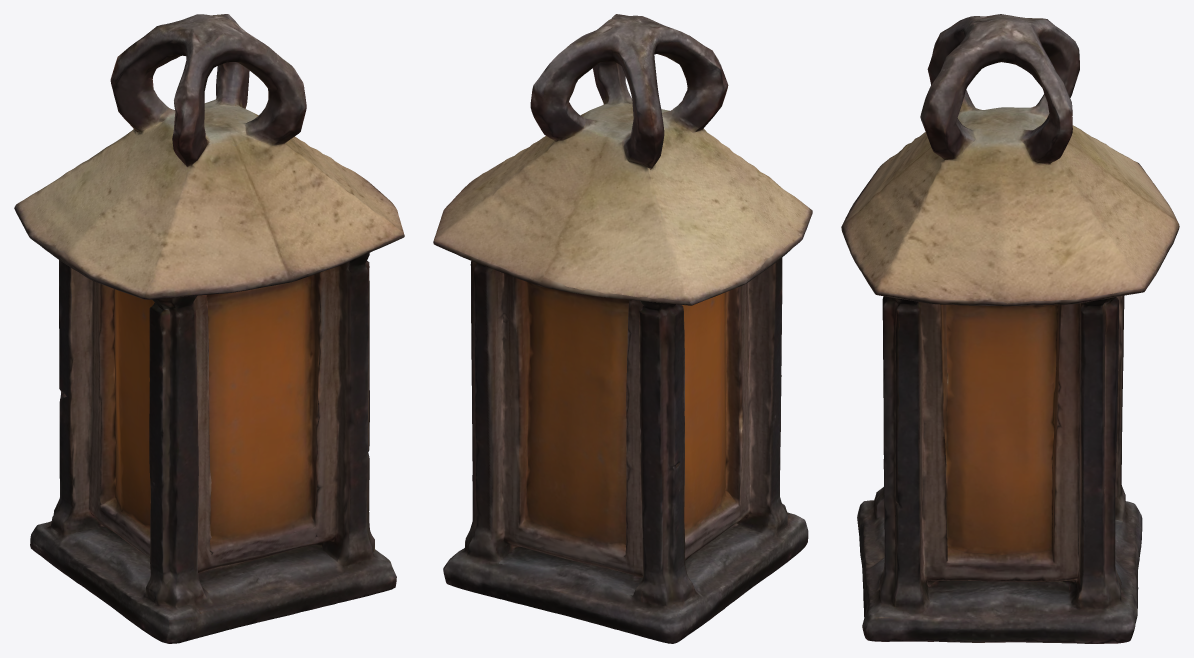
Rendered from kit_lantern.glb.
3 renders of one model, left to right at view 1: azimuth 30°, elevation 25°; view 2: azimuth 150°, elevation 25°; view 3: azimuth 270°, elevation 25°, orthographic. The views are drawn at different scales.
Visible parts, largest first — view 1: kit_lantern_s7_fit; view 2: kit_lantern_s7_fit; view 3: kit_lantern_s7_fit.
Part boxes in pixels (box(x1,y1,x2,y2)): kit_lantern_s7_fit: box(14, 14, 404, 643); kit_lantern_s7_fit: box(433, 14, 812, 643); kit_lantern_s7_fit: box(841, 14, 1179, 643).
Size of the model in its own units: 0.2898 by 0.495 by 0.2693.
1 material, 1 textured.
